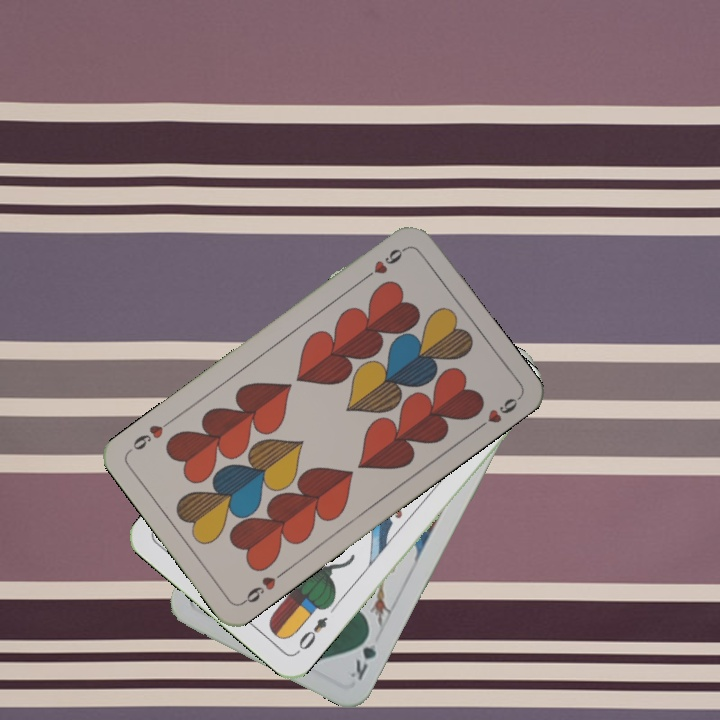EO: (292, 612, 330, 657)
GK: (346, 626, 380, 683)
H9: (237, 566, 288, 607), (358, 243, 409, 283)
